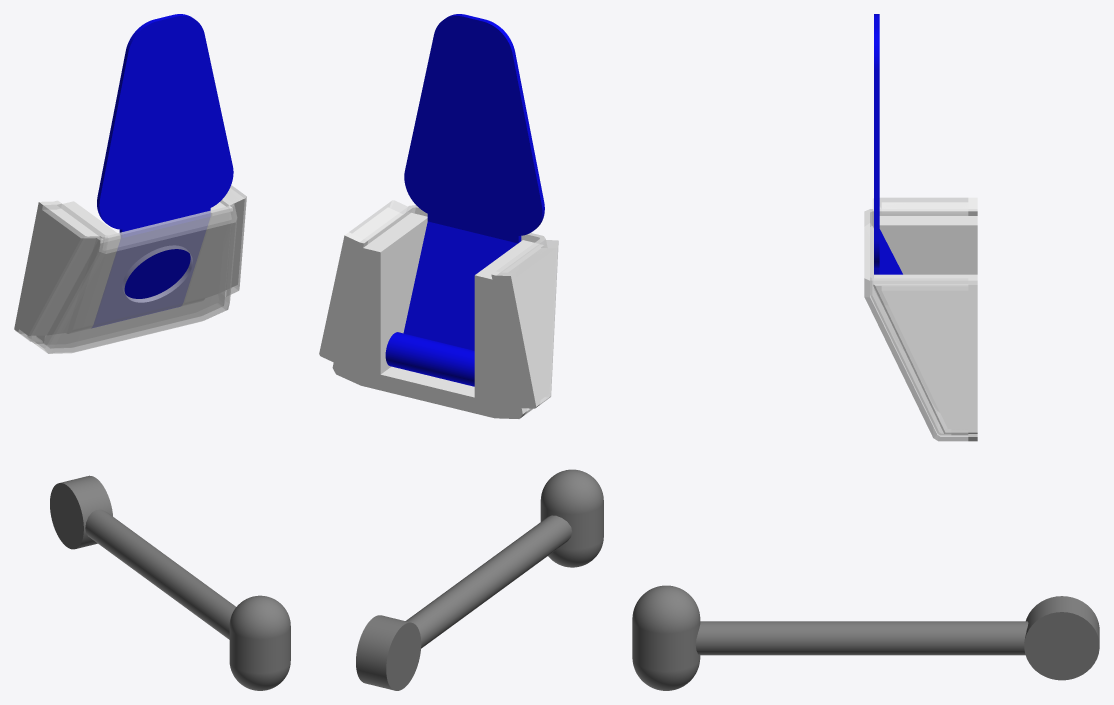
File: trypod2.fbx
3 views of the same model, side by side, from view 1: azimuth 30°, elevation 25°; view 2: azimuth 150°, elevation 25°; view 3: azimuth 270°, elevation 25° (orthographic). The views are drawn at different scales.
Parts seen in each view (by area): view 1: ｵﾌﾞｼﾞｪｸﾄ_5, ｵﾌﾞｼﾞｪｸﾄ_7, ｵﾌﾞｼﾞｪｸﾄ_8, ｵﾌﾞｼﾞｪｸﾄ_6, ｵﾌﾞｼﾞｪｸﾄ_1, ｵﾌﾞｼﾞｪｸﾄ_4, ｵﾌﾞｼﾞｪｸﾄ_3; view 2: ｵﾌﾞｼﾞｪｸﾄ_8, ｵﾌﾞｼﾞｪｸﾄ_5, ｵﾌﾞｼﾞｪｸﾄ_6, ｵﾌﾞｼﾞｪｸﾄ_1, ｵﾌﾞｼﾞｪｸﾄ_4, ｵﾌﾞｼﾞｪｸﾄ_3, ｵﾌﾞｼﾞｪｸﾄ_9, ｵﾌﾞｼﾞｪｸﾄ_7; view 3: ｵﾌﾞｼﾞｪｸﾄ_8, ｵﾌﾞｼﾞｪｸﾄ_1, ｵﾌﾞｼﾞｪｸﾄ_7, ｵﾌﾞｼﾞｪｸﾄ_4, ｵﾌﾞｼﾞｪｸﾄ_3, ｵﾌﾞｼﾞｪｸﾄ_5.
Part boxes in pixels (left/top/right/bottom): ｵﾌﾞｼﾞｪｸﾄ_5: left=97, top=14, right=233, bottom=229; ｵﾌﾞｼﾞｪｸﾄ_7: left=18, top=185, right=246, bottom=353; ｵﾌﾞｼﾞｪｸﾄ_8: left=14, top=188, right=244, bottom=344; ｵﾌﾞｼﾞｪｸﾄ_6: left=94, top=201, right=210, bottom=323; ｵﾌﾞｼﾞｪｸﾄ_1: left=85, top=509, right=235, bottom=639; ｵﾌﾞｼﾞｪｸﾄ_4: left=229, top=595, right=290, bottom=690; ｵﾌﾞｼﾞｪｸﾄ_3: left=50, top=475, right=112, bottom=549; ｵﾌﾞｼﾞｪｸﾄ_8: left=319, top=207, right=556, bottom=418; ｵﾌﾞｼﾞｪｸﾄ_5: left=404, top=14, right=544, bottom=235; ｵﾌﾞｼﾞｪｸﾄ_6: left=403, top=200, right=521, bottom=350; ｵﾌﾞｼﾞｪｸﾄ_1: left=405, top=515, right=572, bottom=648; ｵﾌﾞｼﾞｪｸﾄ_4: left=540, top=469, right=603, bottom=567; ｵﾌﾞｼﾞｪｸﾄ_3: left=356, top=615, right=421, bottom=690; ｵﾌﾞｼﾞｪｸﾄ_9: left=385, top=332, right=474, bottom=386; ｵﾌﾞｼﾞｪｸﾄ_7: left=349, top=200, right=558, bottom=415; ｵﾌﾞｼﾞｪｸﾄ_8: left=874, top=197, right=977, bottom=441; ｵﾌﾞｼﾞｪｸﾄ_1: left=695, top=621, right=1028, bottom=655; ｵﾌﾞｼﾞｪｸﾄ_7: left=864, top=197, right=968, bottom=441; ｵﾌﾞｼﾞｪｸﾄ_4: left=632, top=585, right=700, bottom=690; ｵﾌﾞｼﾞｪｸﾄ_3: left=1024, top=596, right=1099, bottom=680; ｵﾌﾞｼﾞｪｸﾄ_5: left=874, top=14, right=879, bottom=268.
Size of the model in its own units: 143 by 389 by 248.
